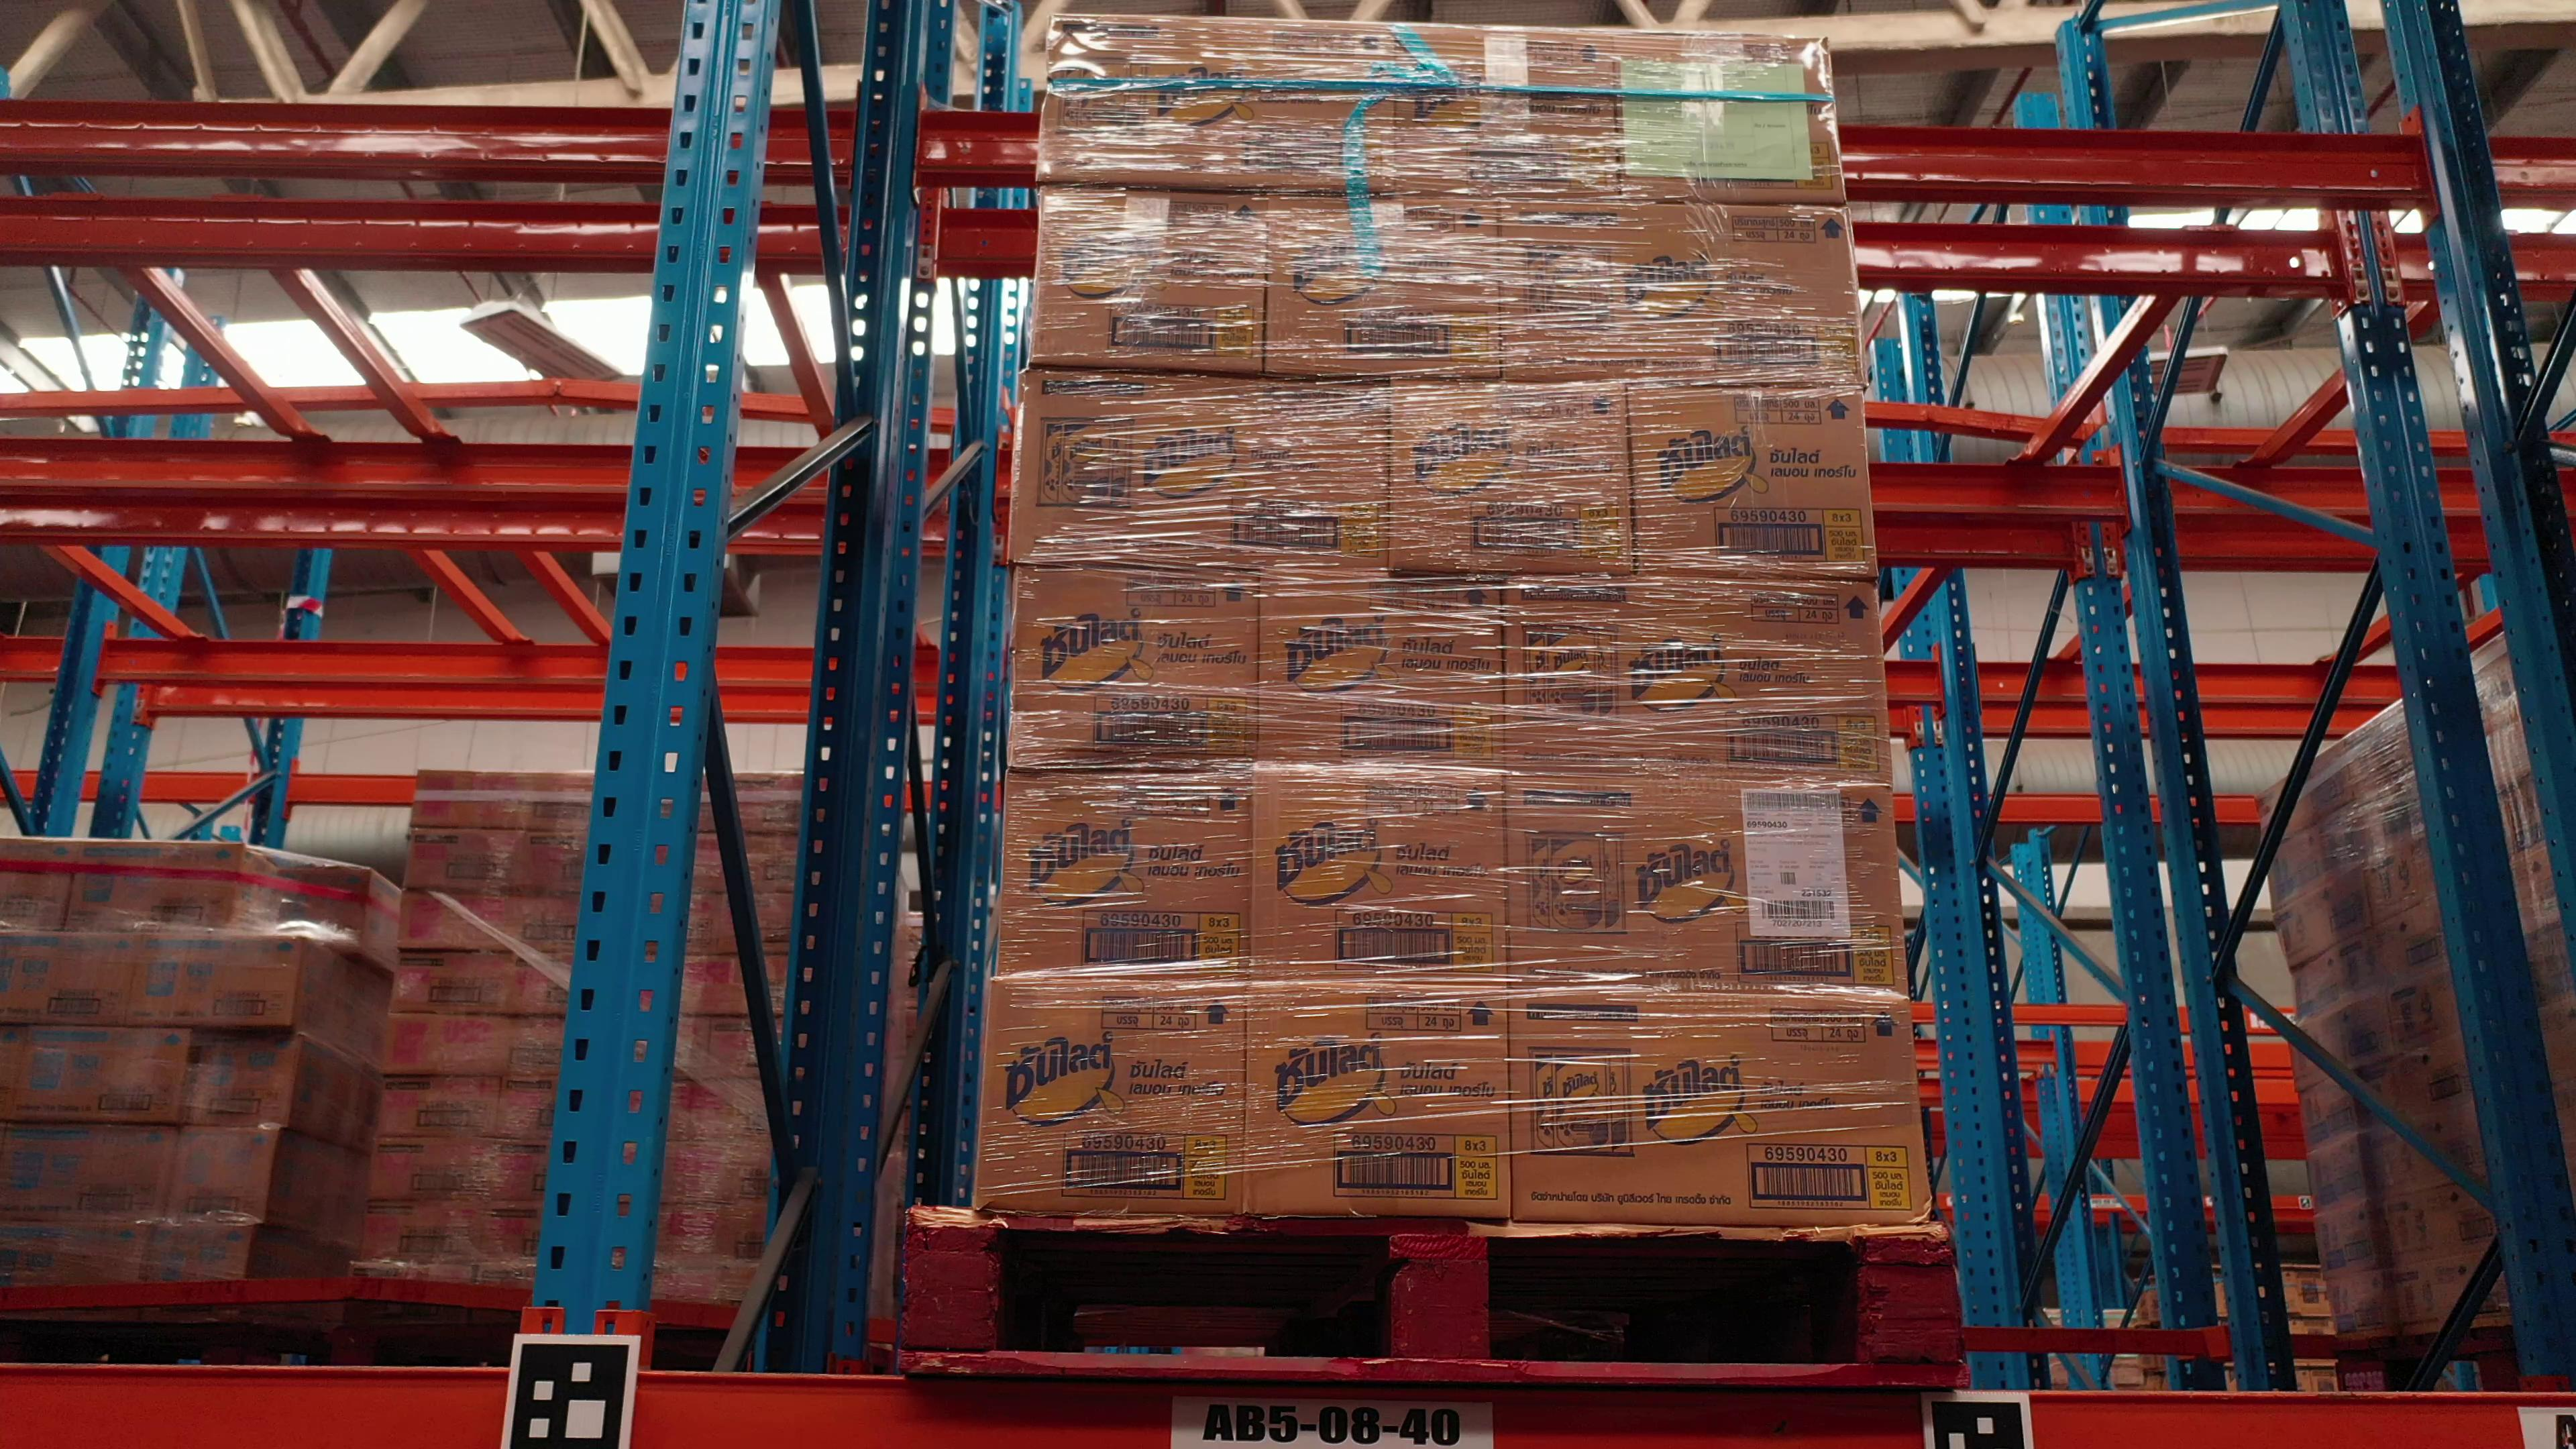-: (1507, 985, 1930, 1228), (1507, 761, 1909, 998), (1008, 366, 1392, 577), (1502, 575, 1895, 780), (1499, 195, 1865, 393), (973, 975, 1247, 1217), (1037, 14, 1396, 196), (1246, 982, 1511, 1221), (1251, 763, 1514, 984), (998, 771, 1253, 982), (1007, 564, 1261, 770), (1626, 380, 1881, 582), (1254, 570, 1506, 768), (1391, 379, 1642, 573), (1026, 184, 1272, 379), (1269, 193, 1502, 384), (1392, 19, 1619, 205), (1615, 27, 1845, 203)
